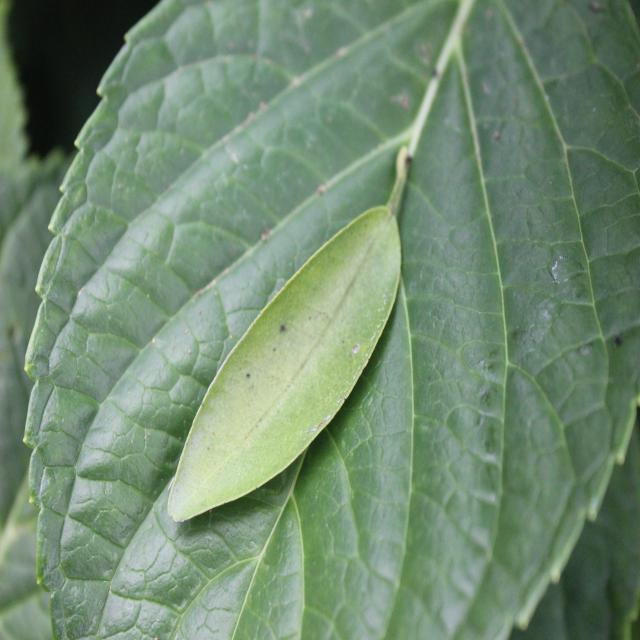blackspot: (212, 295, 319, 489)
